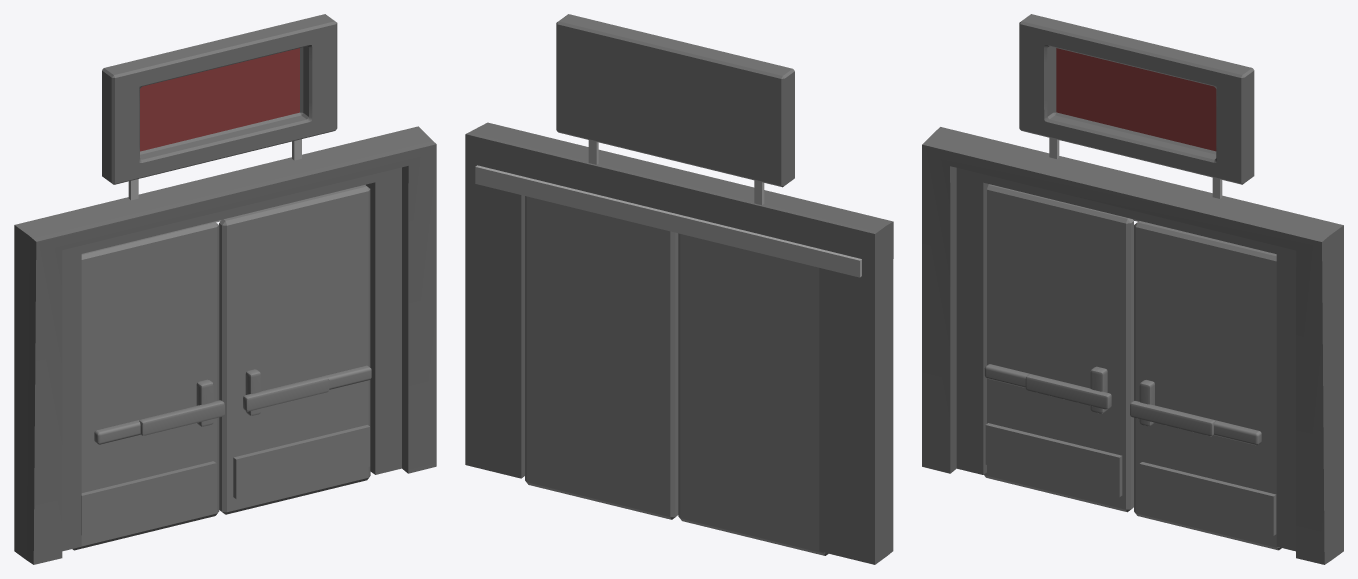
File: 3DGAME_Exit_Door_Color.fbx
The picture shows the model from 3 angles, left to right: view 1: azimuth 30°, elevation 25°; view 2: azimuth 150°, elevation 25°; view 3: azimuth 330°, elevation 25°; orthographic projection.
Visible parts, largest first — view 1: polySurface4, pCube32, pCube31, polySurface1; view 2: polySurface4, pCube32, pCube31, polySurface1, polySurface6; view 3: polySurface4, pCube31, pCube32, polySurface1.
Part boxes in pixels (left/top/right/bottom): polySurface4: left=14, top=126, right=436, bottom=564; pCube32: left=219, top=185, right=371, bottom=514; pCube31: left=72, top=221, right=224, bottom=550; polySurface1: left=102, top=14, right=337, bottom=184; polySurface4: left=465, top=122, right=893, bottom=564; pCube32: left=525, top=196, right=678, bottom=519; pCube31: left=678, top=233, right=828, bottom=555; polySurface1: left=556, top=14, right=794, bottom=187; polySurface6: left=475, top=165, right=861, bottom=277; polySurface4: left=922, top=127, right=1343, bottom=564; pCube31: left=984, top=184, right=1133, bottom=512; pCube32: left=1130, top=221, right=1281, bottom=550; polySurface1: left=1019, top=14, right=1254, bottom=184.
Bounding box in the file's own units: 4.06 × 4.5 × 0.4147.
